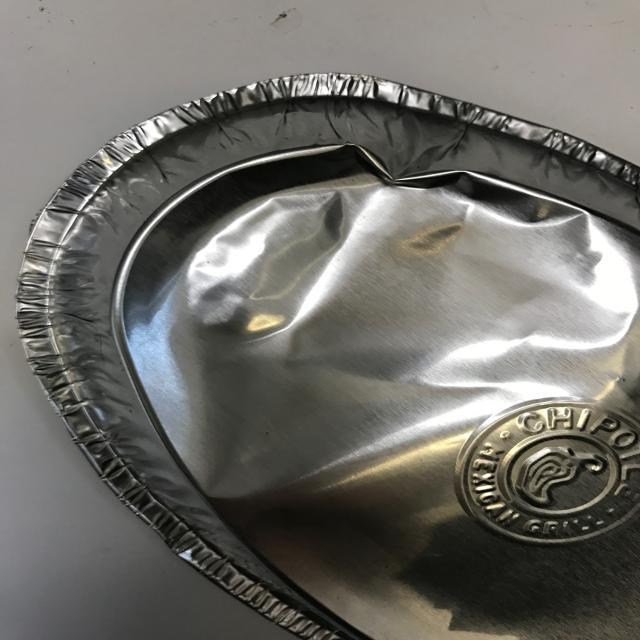metal: (18, 72, 640, 639)
